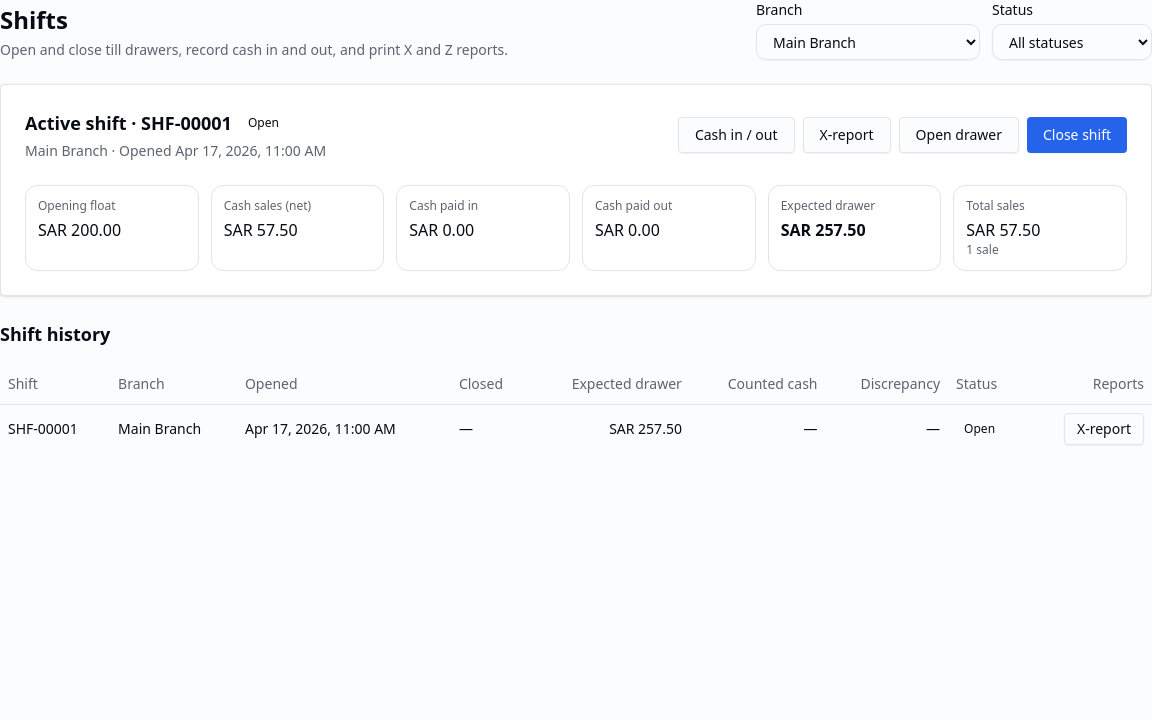
Test: P6.5 ShiftsPage › records a cash in/out movement and updates the expected drawer
expect the heading "Active shift · SHF-00001 Open" is shown: met, box [25,111,279,135]
Click the button "Cash in / out".
click(736, 135)  # box [678,117,794,153]
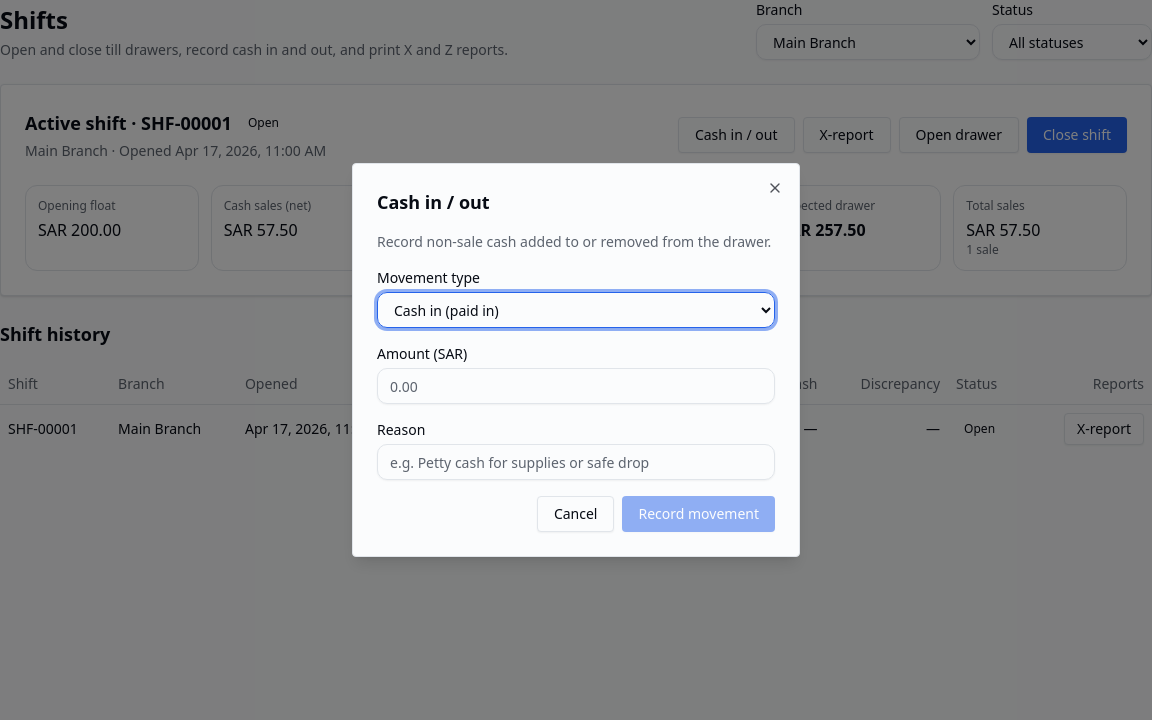
Type "30" into the field labelled "Amount (SAR)".
click(576, 386); type("30")  # box [377,368,775,404]
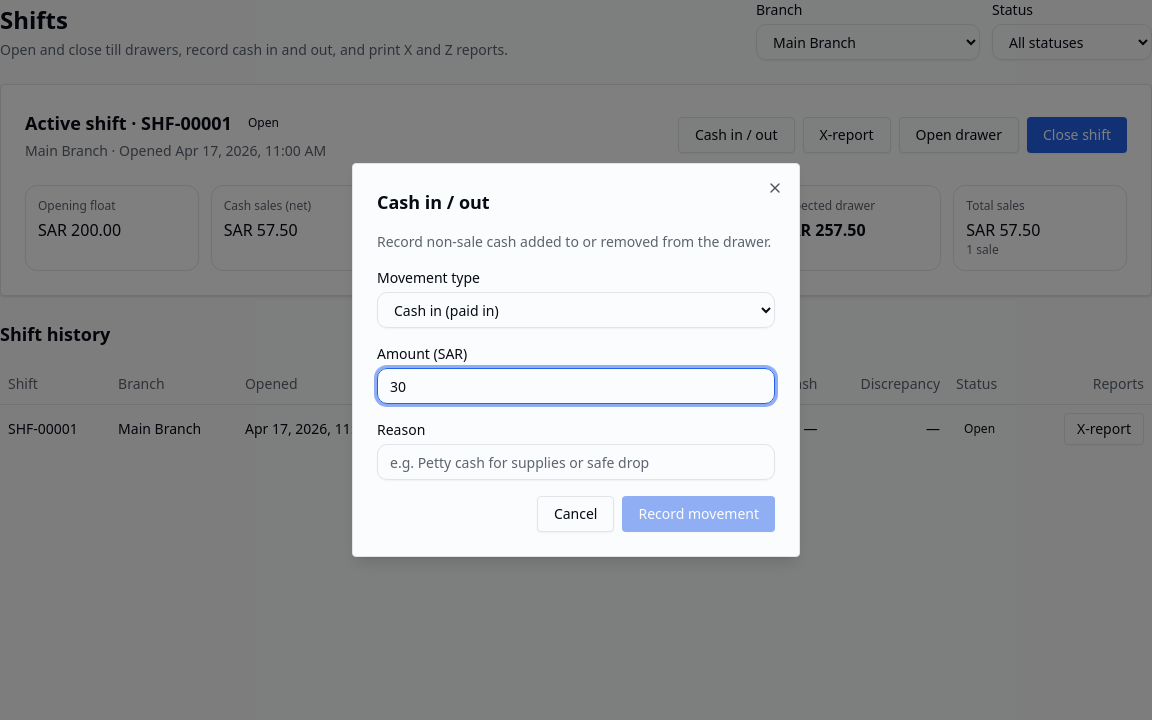
Type "Change coins from safe" into the field labelled "Reason".
click(576, 462); type("Change coins from safe")  # box [377,444,775,480]
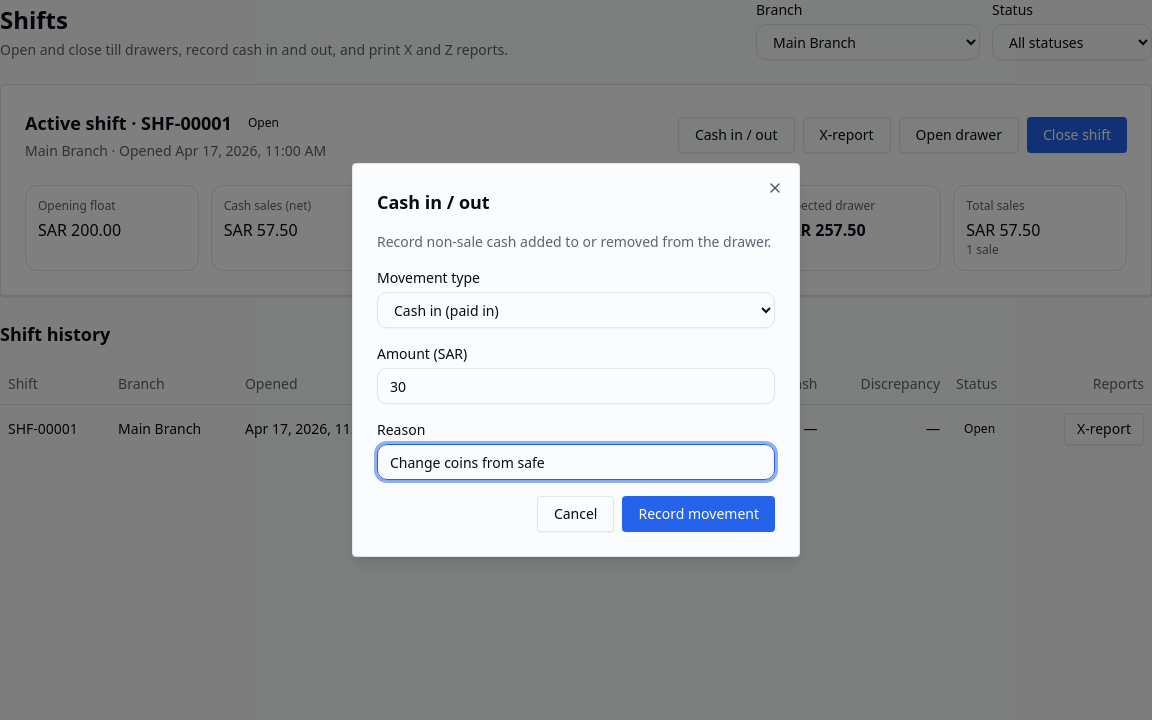
Click the button "Record movement".
click(699, 514)  # box [622,496,775,532]
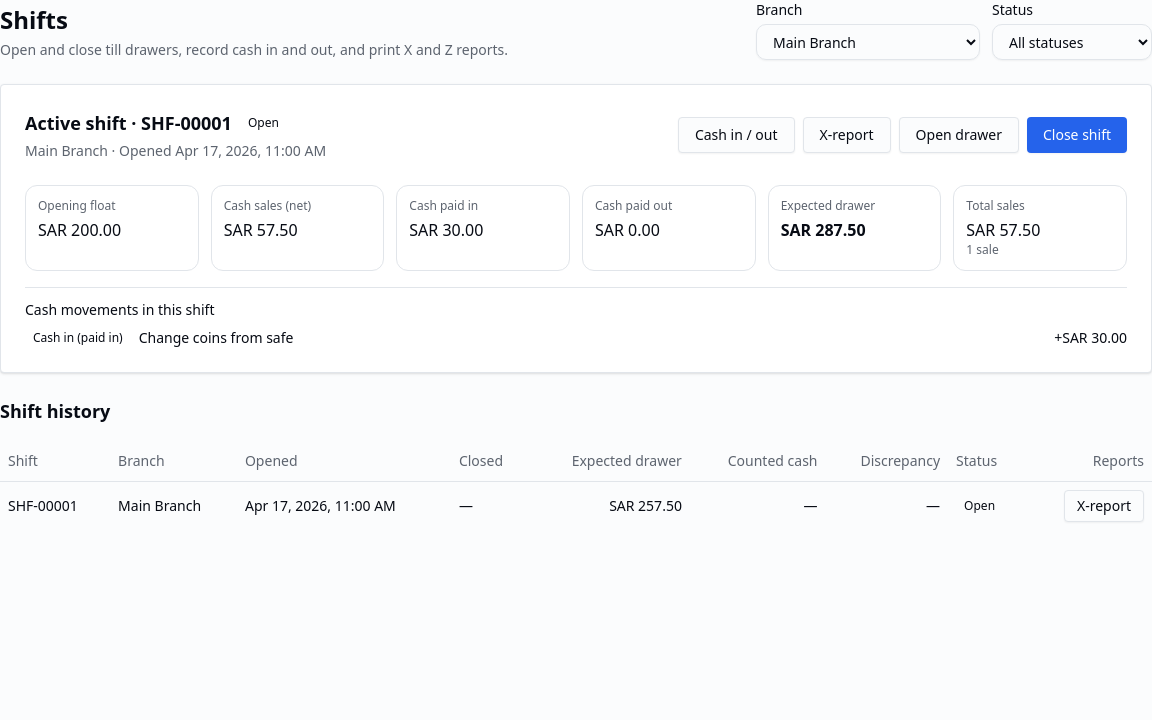
expect the text "Change coins from safe" is shown: met, box [139,328,294,348]
